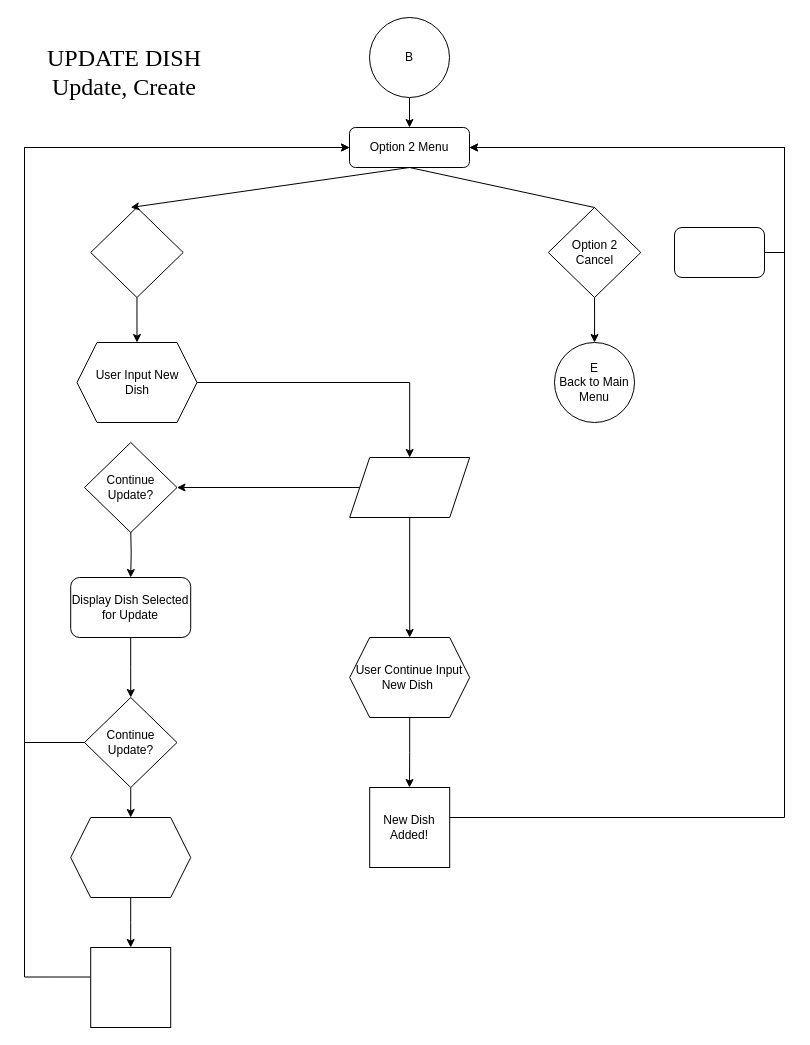
This 810x1045 diagram has some shape labels left out. The centre of each missing label's shape, as x and y in pixels:
"DIsh Updated!" belongs at [130,987].
"Does Data Already Exists?" belongs at [409,487].
"Notification : Invalid input!" belongs at [719,252].
"Option 1 Add New Dish" belongs at [136,252].
"User Input Update Data" belongs at [130,857].
